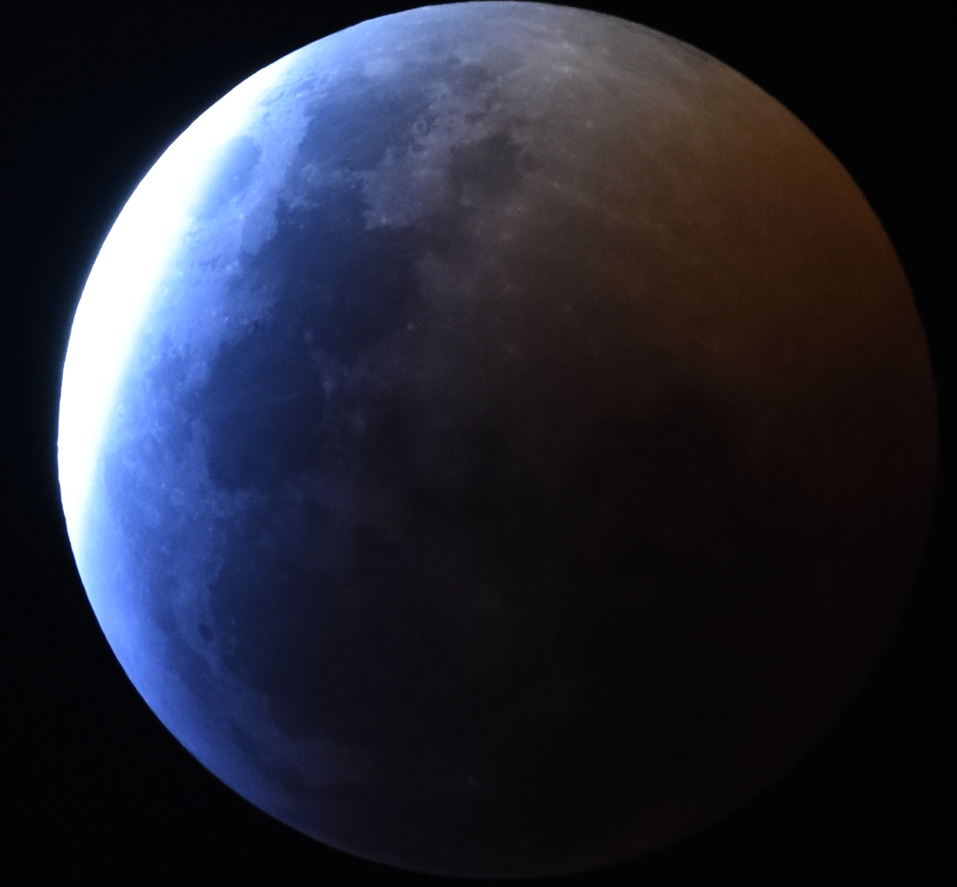crater: (684, 204, 858, 493), (498, 13, 633, 100), (174, 139, 266, 227), (441, 751, 501, 805), (343, 396, 386, 446), (128, 495, 171, 540), (167, 475, 203, 516), (573, 111, 610, 143), (395, 303, 424, 338), (545, 173, 573, 197), (170, 262, 192, 289), (375, 209, 396, 228), (225, 612, 244, 630)
